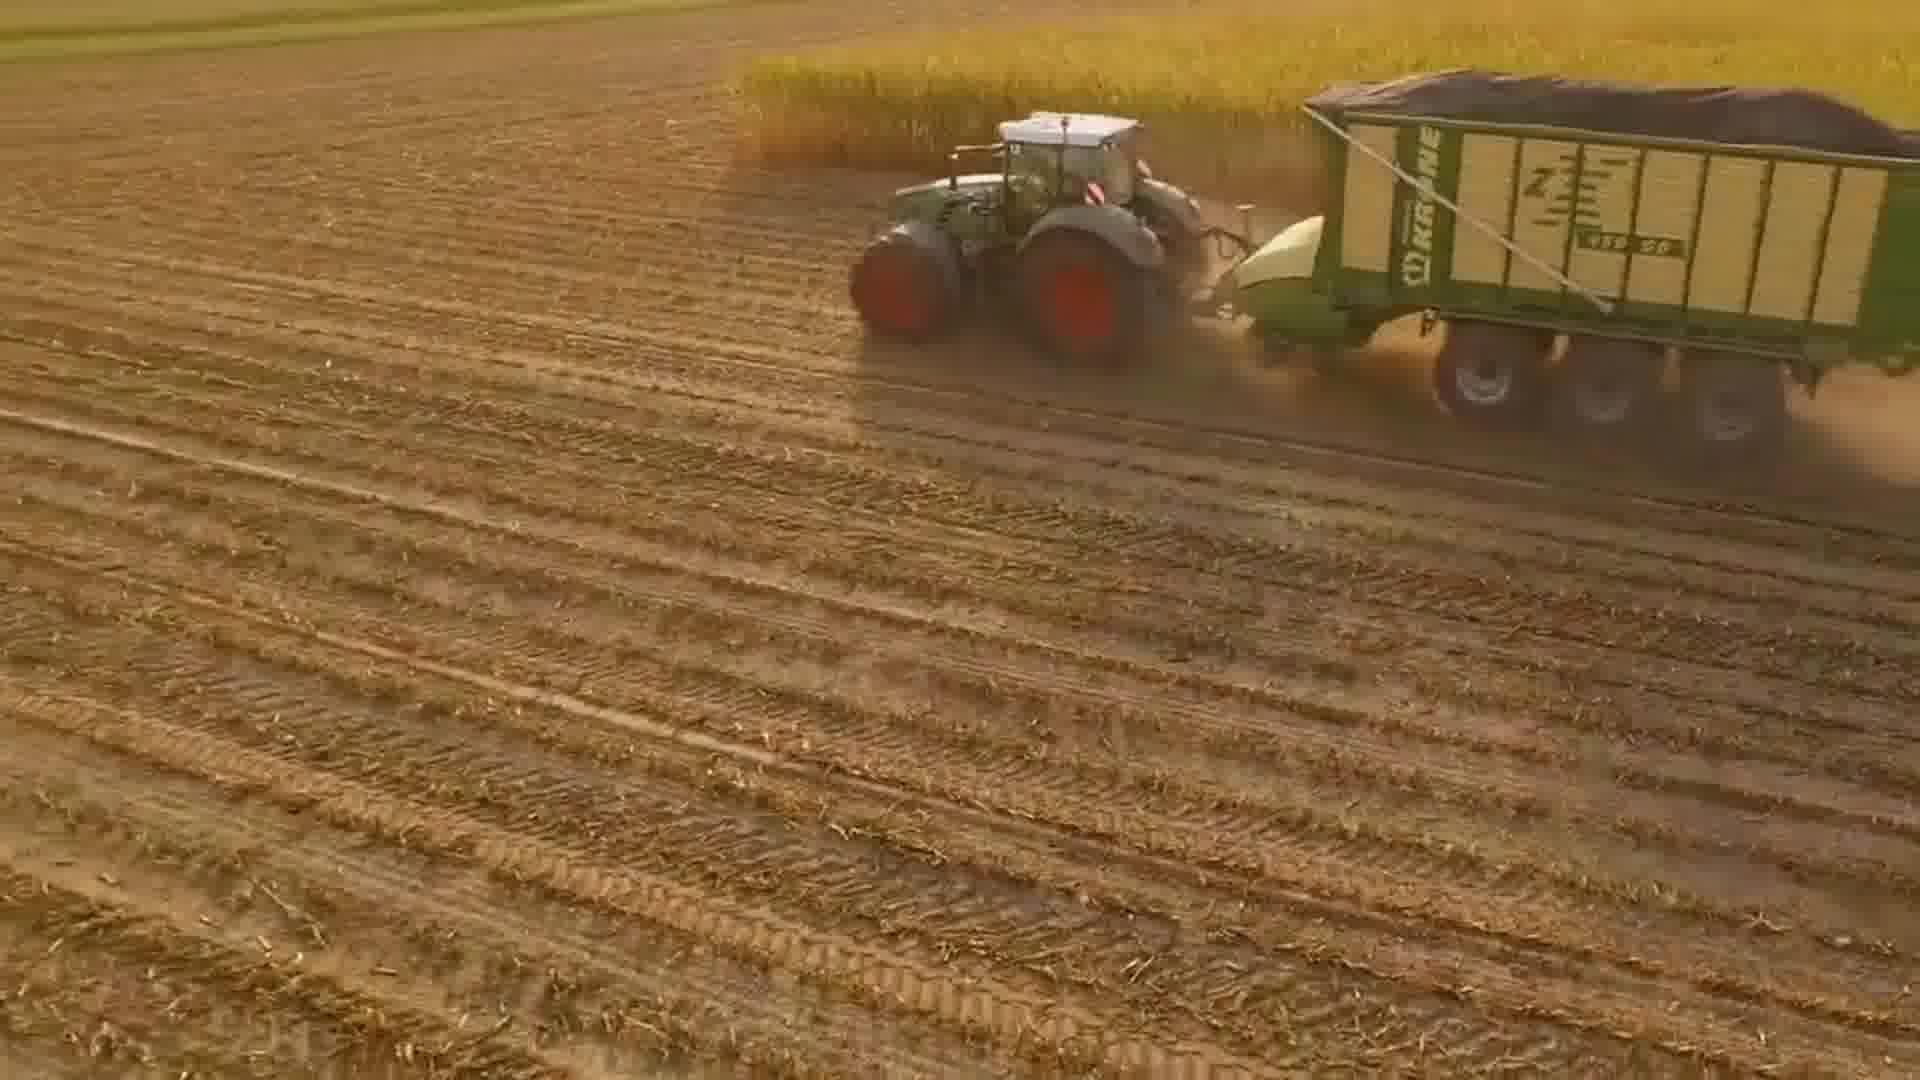tractor: (840, 102, 1213, 389)
trailer: (1236, 61, 1920, 479)
